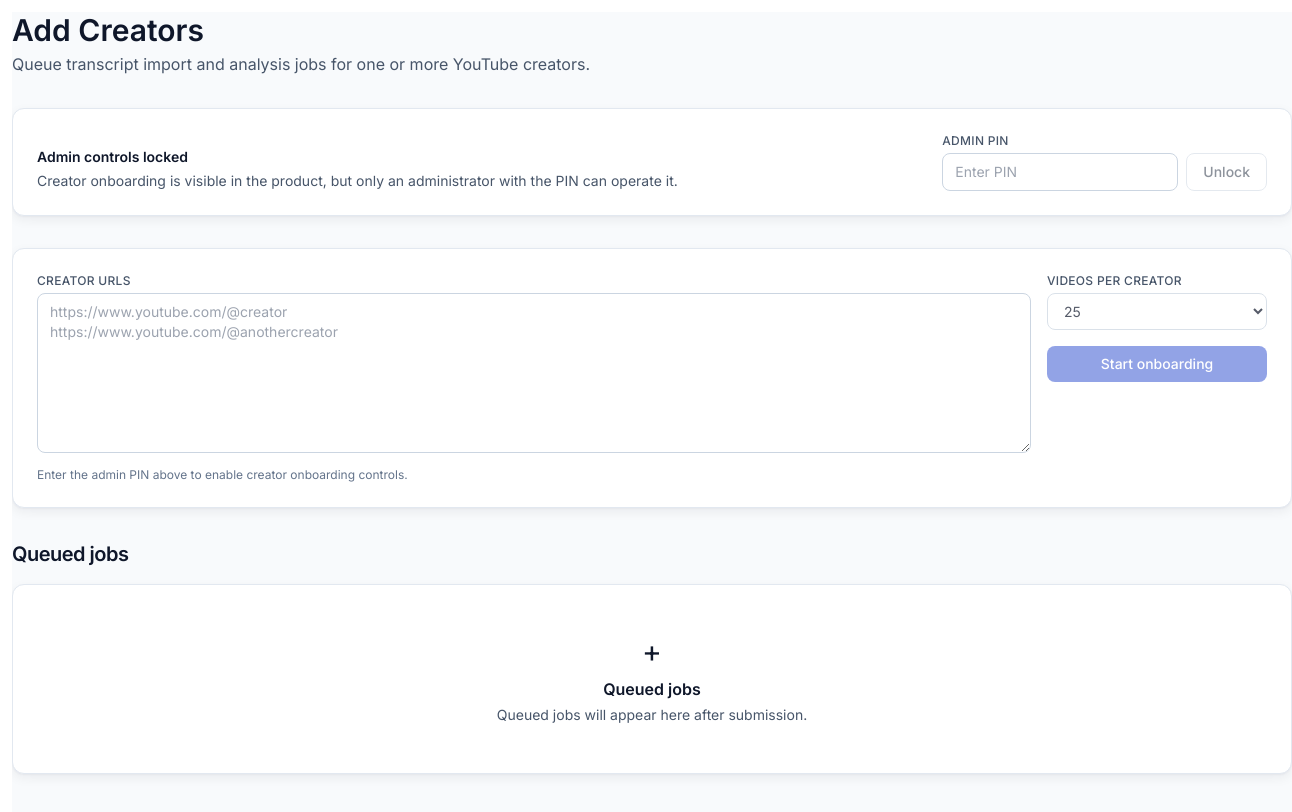
Test case: AddCreatorsPage branch arms › uses the bare status when an onboarding run returns no statusPath
Type "2468" into the password field labelled "Admin PIN". click: coordinates (1060, 172)
box: [942, 153, 1178, 191]
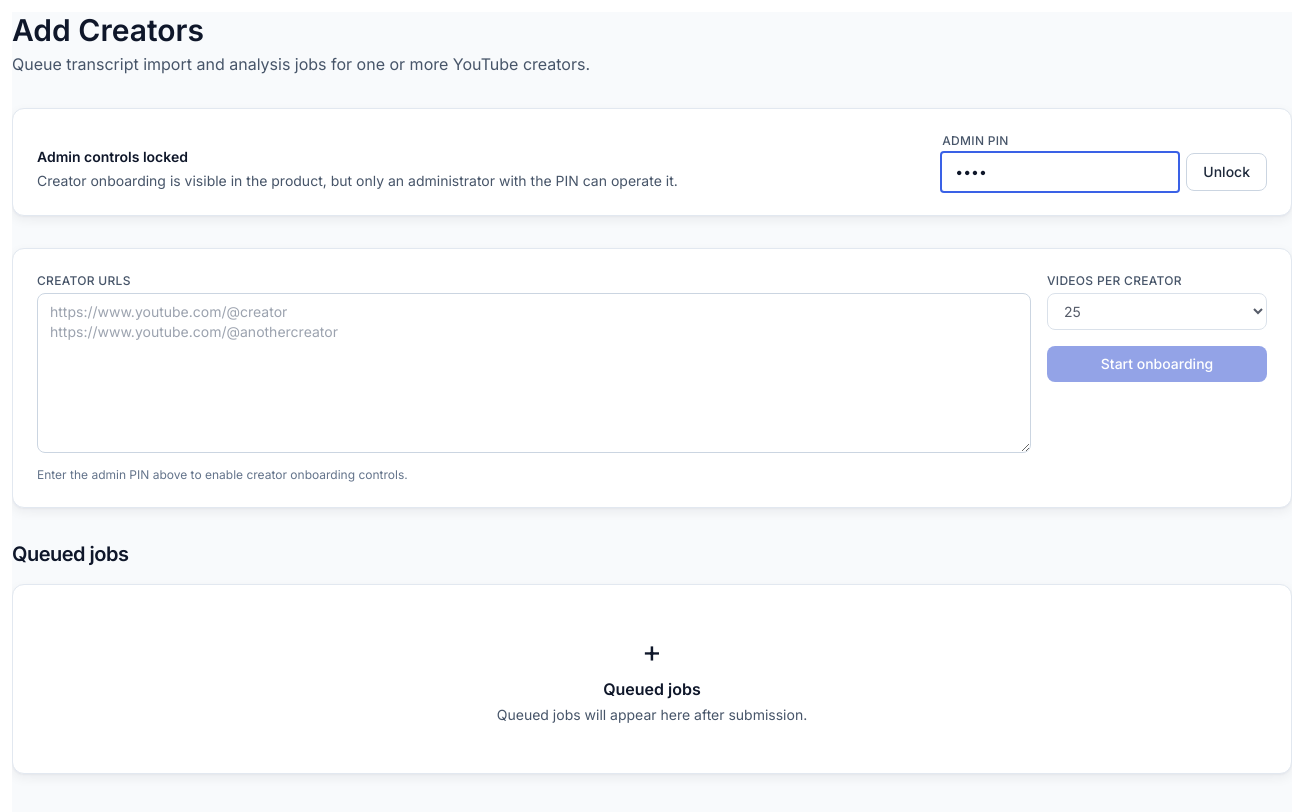
Click the button "Unlock". click: coordinates (1227, 172)
box: [1186, 153, 1267, 191]
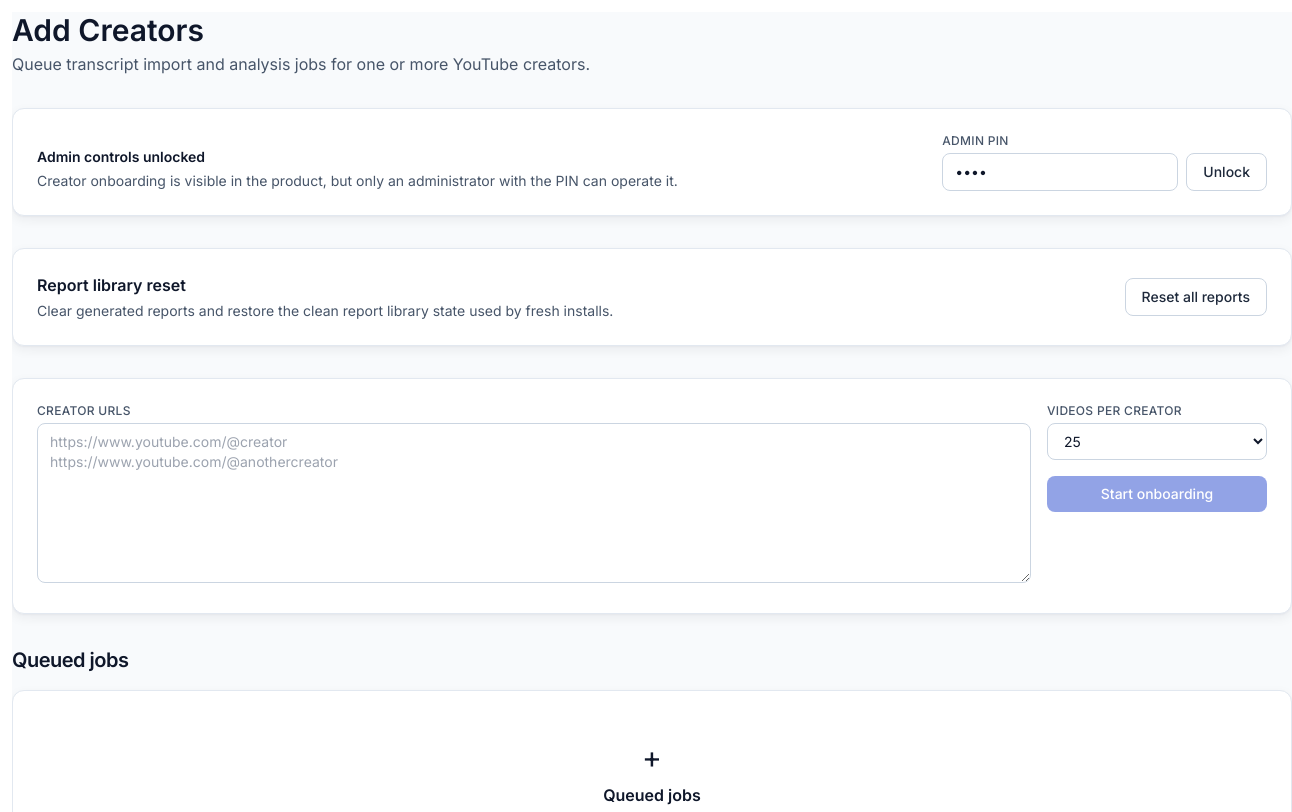
Type "https://www.youtube.com/@solo" into the text box labelled "Creator URLs". click: coordinates (534, 503)
box: [37, 423, 1031, 583]
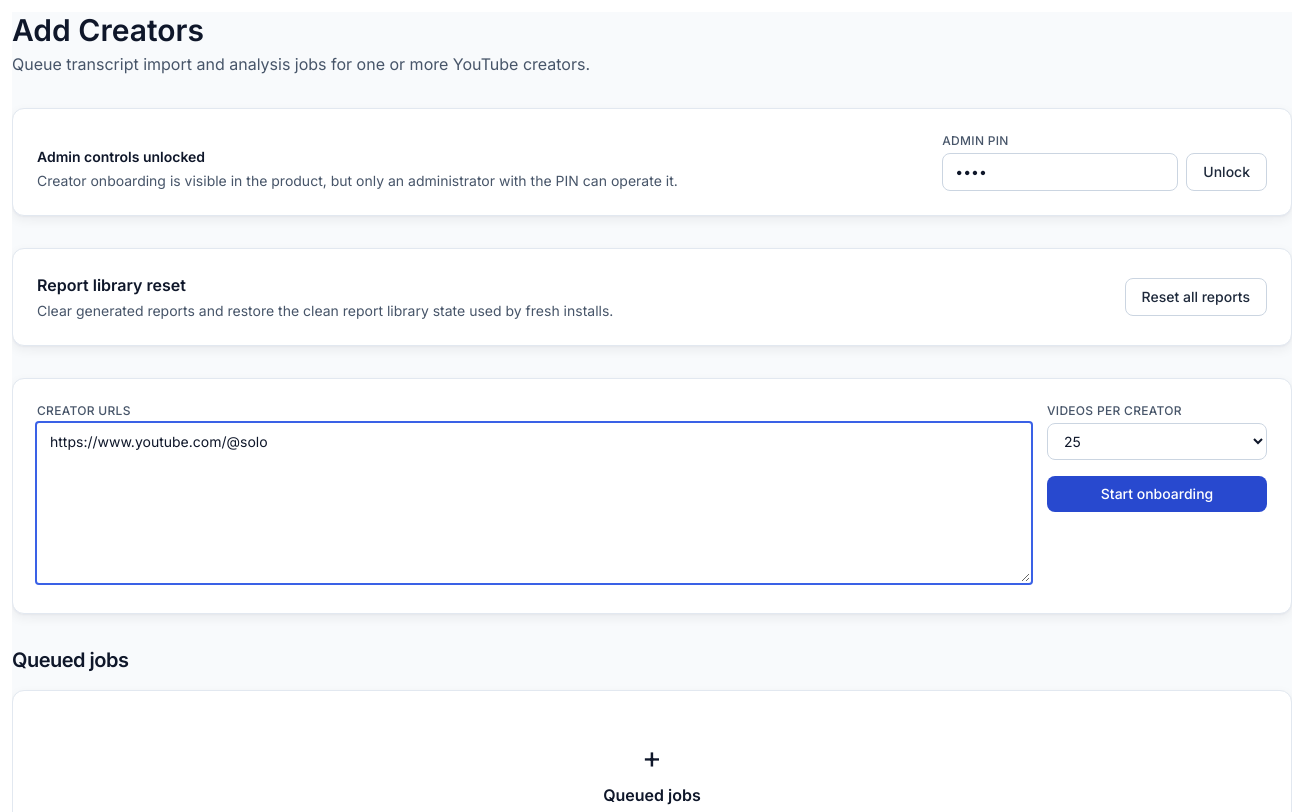
Click the button "Start onboarding". click: coordinates (1157, 494)
box: [1047, 476, 1267, 512]
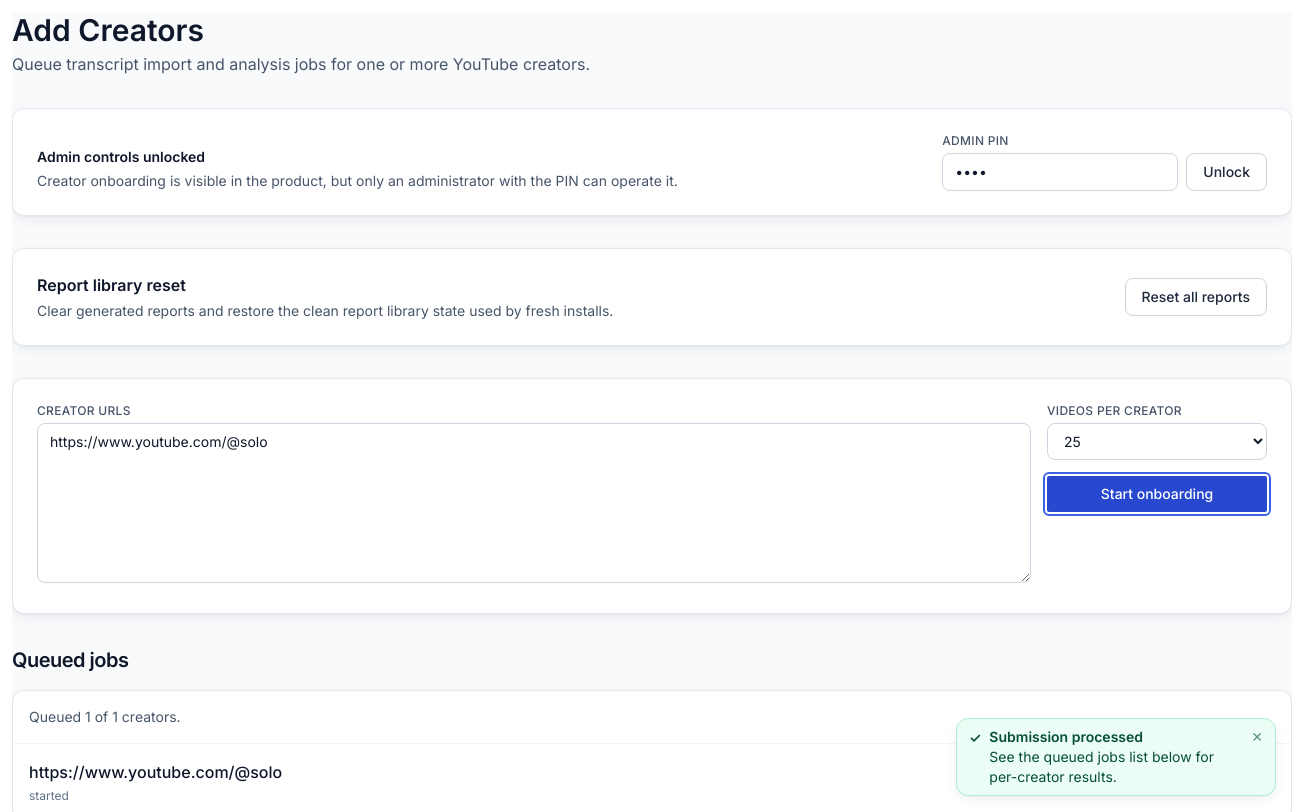
Now the text "Queued 1 of 1 creators." is shown, box [29, 708, 181, 725]
Now the text "started" is shown, box [29, 788, 69, 803]
